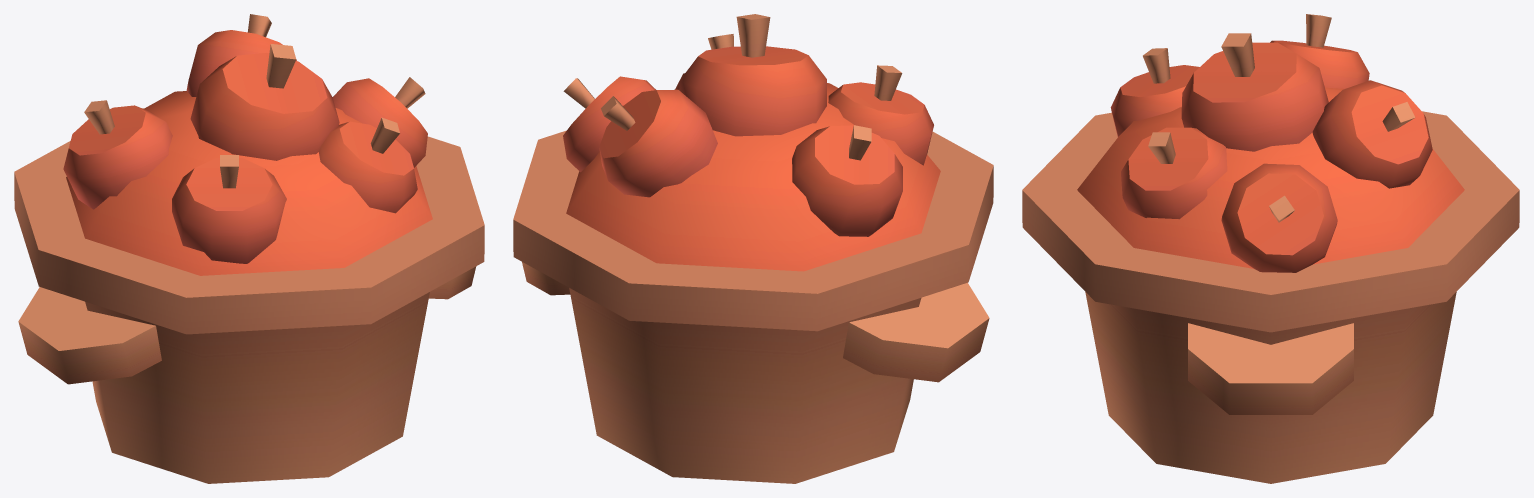
Rendered from fruit_stand.glb.
The picture shows the model from 3 angles, left to right: view 1: azimuth 30°, elevation 25°; view 2: azimuth 150°, elevation 25°; view 3: azimuth 270°, elevation 25°; orthographic projection. The views are drawn at different scales.
Parts seen in each view (by area): view 1: display-fruit; view 2: display-fruit; view 3: display-fruit.
Part boxes in pixels (x1,y1,x2,y2): display-fruit: (14, 14, 484, 483); display-fruit: (513, 14, 993, 483); display-fruit: (1022, 14, 1519, 483).
Size of the model in its own units: 0.6 by 0.516 by 0.6.
1 material, 1 textured.
